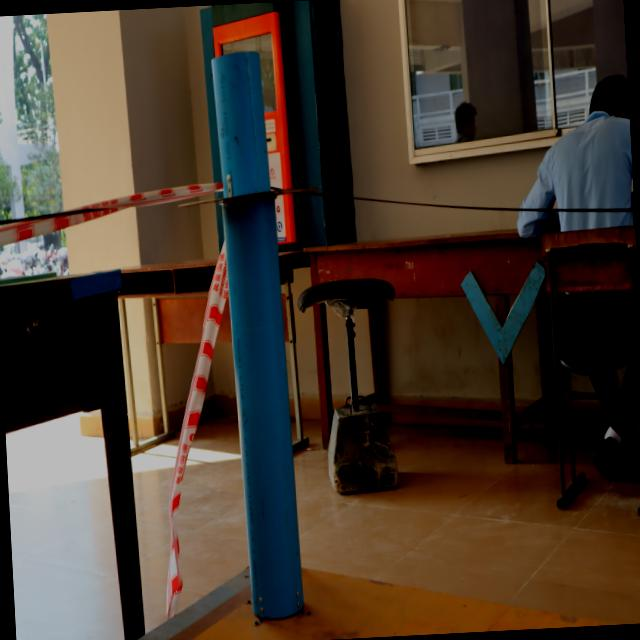pole: (172, 41, 322, 248)
